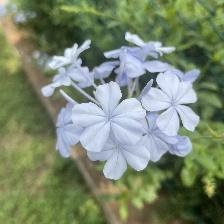chitrak: (74, 82, 151, 152), (143, 72, 204, 134), (89, 137, 152, 182), (49, 36, 96, 72), (51, 104, 79, 163), (124, 32, 178, 57)
